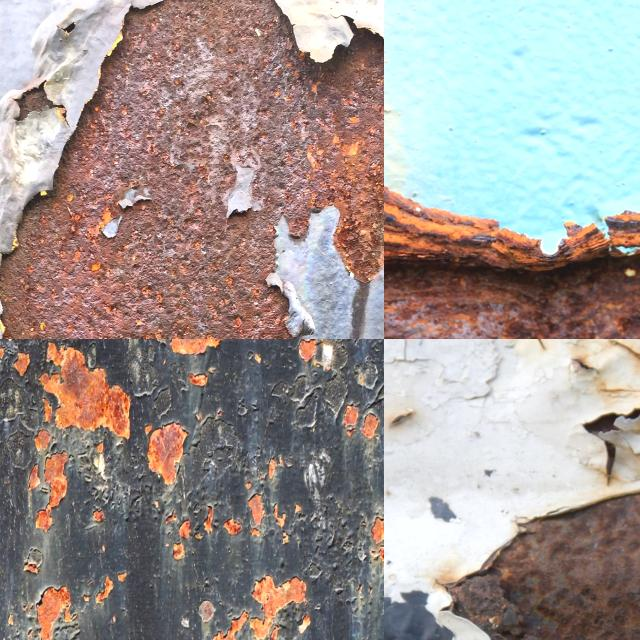Pitting Corrosion: (0, 0, 384, 339), (450, 495, 640, 640), (384, 255, 640, 339)
Uniform Corrosion: (384, 187, 612, 270), (39, 343, 130, 438), (250, 576, 306, 639), (147, 422, 187, 484), (173, 507, 216, 560), (37, 587, 70, 640), (44, 452, 67, 510), (298, 339, 334, 370), (213, 611, 247, 640), (170, 339, 222, 353), (96, 576, 115, 610), (248, 493, 264, 525), (361, 413, 378, 437), (344, 405, 358, 433), (13, 352, 29, 376), (221, 518, 242, 536), (34, 429, 50, 451), (36, 510, 52, 532), (371, 517, 384, 543), (28, 465, 40, 489), (43, 399, 52, 422), (117, 571, 128, 584), (166, 512, 176, 523), (111, 612, 116, 622)
